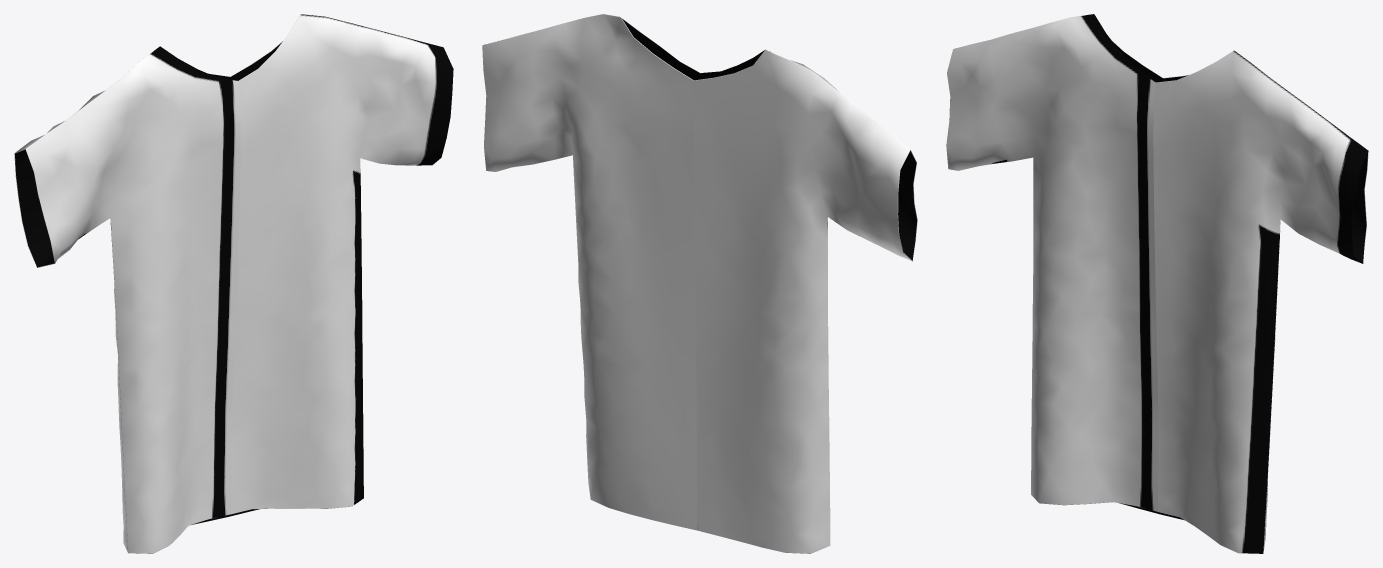
The model's file is tshirt.fbx.
3 renders of one model, left to right at view 1: azimuth 30°, elevation 25°; view 2: azimuth 150°, elevation 25°; view 3: azimuth 330°, elevation 25°, orthographic. The views are drawn at different scales.
Parts seen in each view (by area): view 1: tshirt; view 2: tshirt; view 3: tshirt.
Part boxes in pixels (x1,y1,x2,y2): tshirt: (14, 14, 453, 553); tshirt: (482, 14, 917, 553); tshirt: (946, 14, 1368, 553).
Size of the model in its own units: 0.6213 by 0.6898 by 0.0871.
Materials: 1 (1 with a texture image).
